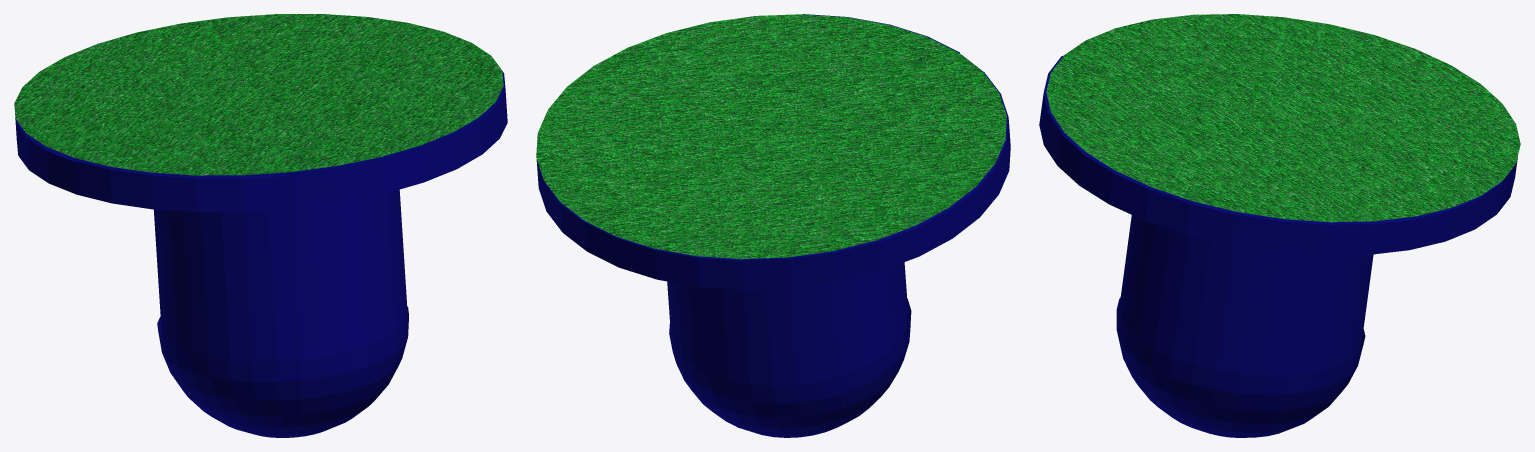
File: mailletFinal1.obj
The picture shows the model from 3 angles, left to right: view 1: azimuth 30°, elevation 25°; view 2: azimuth 150°, elevation 25°; view 3: azimuth 270°, elevation 25°; orthographic projection. The views are drawn at different scales.
Parts seen in each view (by area): view 1: Cylinder; view 2: Cylinder; view 3: Cylinder.
Part boxes in pixels (x1,y1,x2,y2): Cylinder: (14,14,507,437); Cylinder: (536,14,1010,437); Cylinder: (1039,14,1520,437).
Bounding box in the file's own units: 3.14 × 2.41 × 3.15.
Materials: 2 (1 with a texture image).
